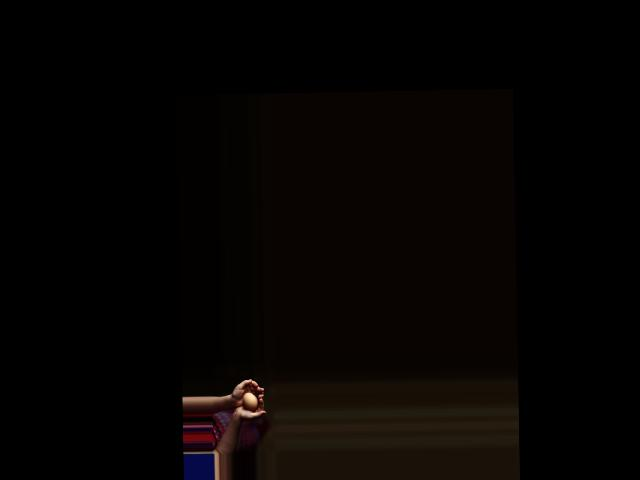egg: (243, 392, 258, 411)
